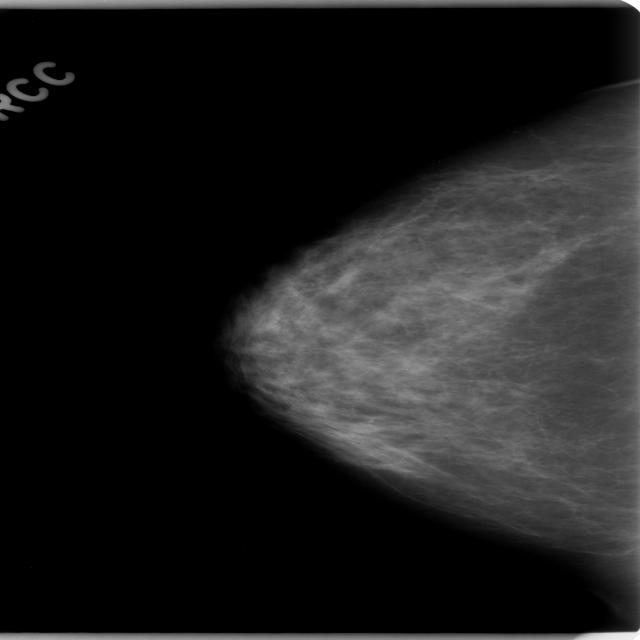cancer: (214, 237, 456, 469)
